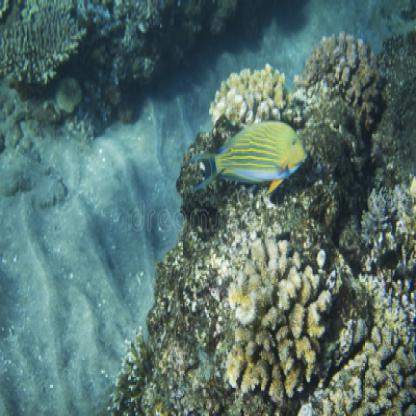Acanthuridae -Surgeonfishes-: (185, 119, 312, 202)
